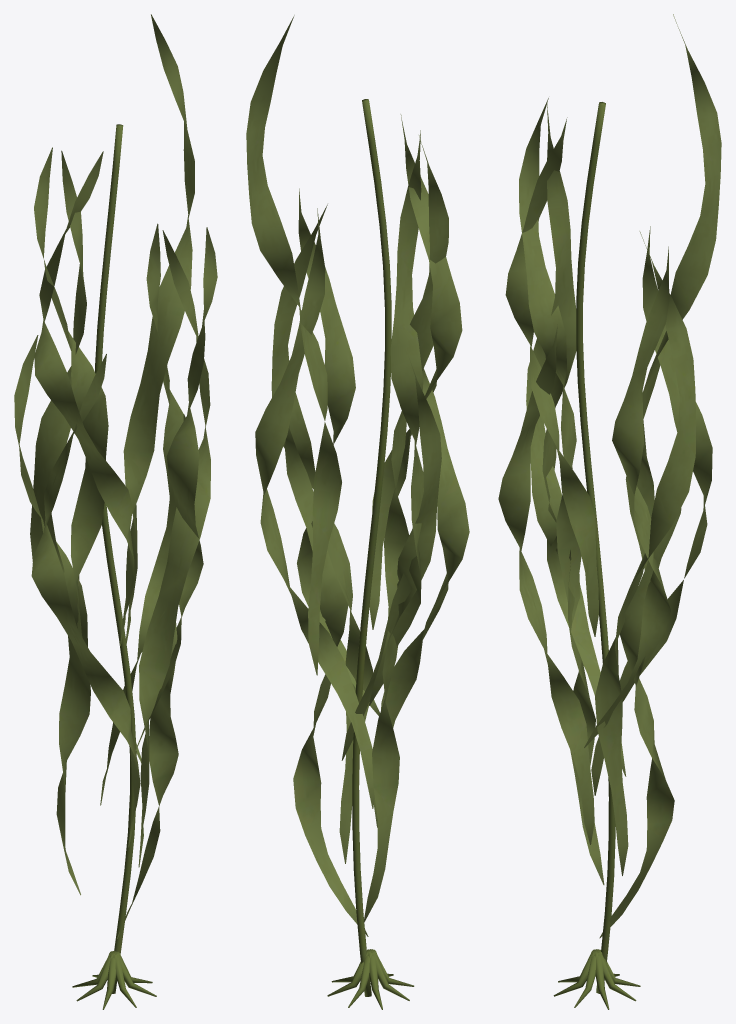
File: kelp.glb
3 renders of one model, left to right at view 1: azimuth 30°, elevation 25°; view 2: azimuth 150°, elevation 25°; view 3: azimuth 330°, elevation 25°, orthographic. The views are drawn at different scales.
Visible parts, largest first — view 1: 22 Kelp; view 2: 22 Kelp; view 3: 22 Kelp.
Part boxes in pixels (<box>): 22 Kelp: <box>14,14,217,1009</box>; 22 Kelp: <box>246,15,469,1009</box>; 22 Kelp: <box>498,14,721,1009</box>.
Bounding box in the file's own units: 0.8836 × 4.35 × 0.4516.
2 materials, 2 textured.
